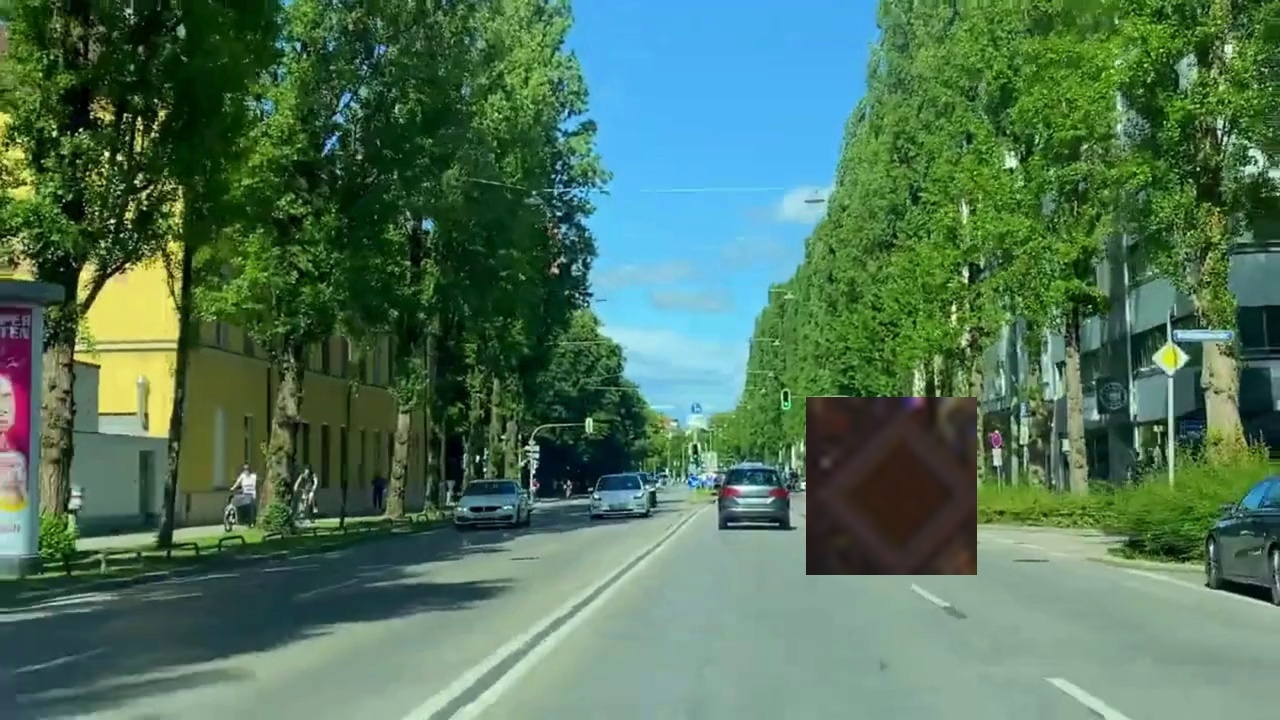Priority road: (806, 397, 977, 575)
